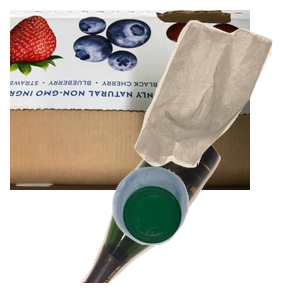cardboard: (10, 10, 250, 190)
glass: (66, 120, 279, 300)
plastic: (110, 164, 300, 300)
trash: (132, 17, 300, 177)
